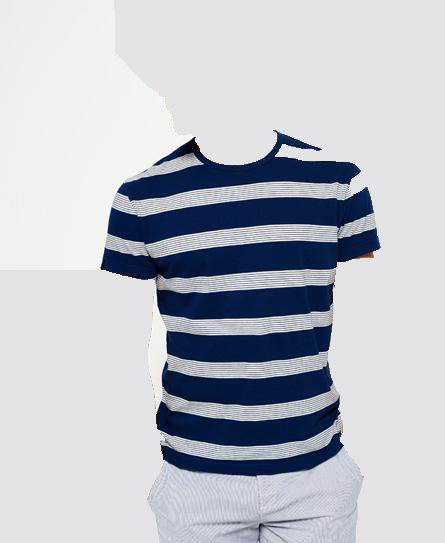teeshirt: (97, 126, 386, 472)
